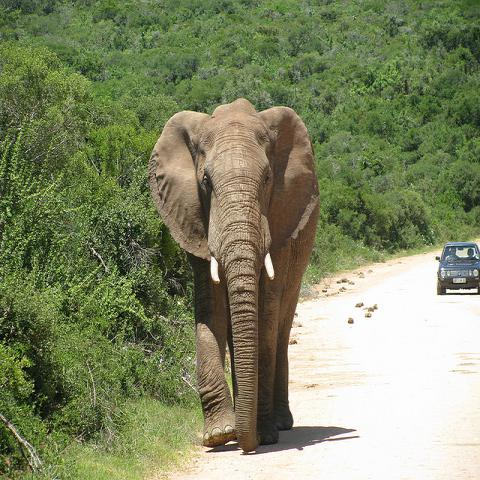car: (436, 241, 479, 295)
